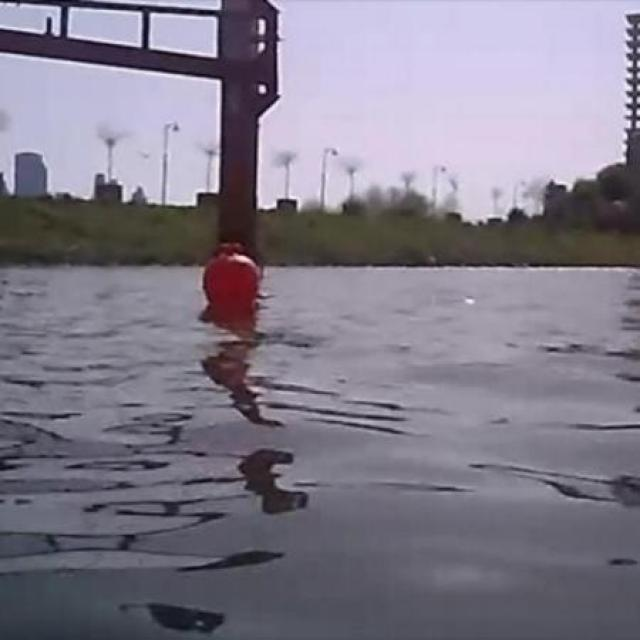buoy: (204, 241, 261, 302)
